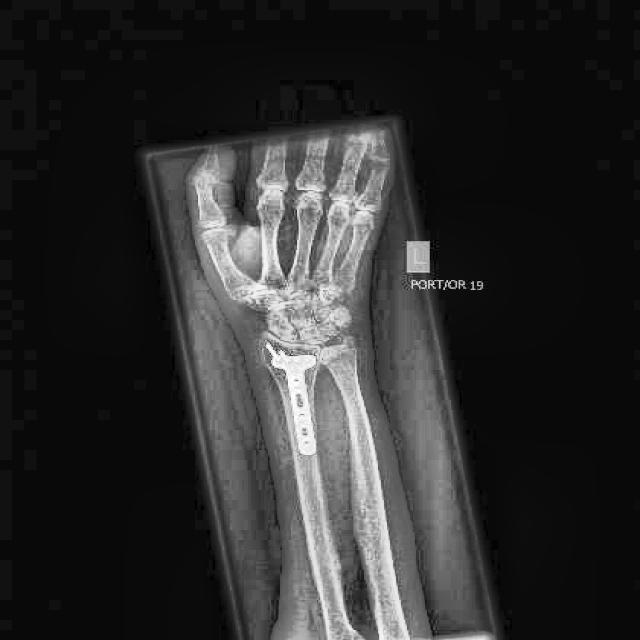wrist positive: (312, 330, 365, 380), (273, 327, 304, 346)
